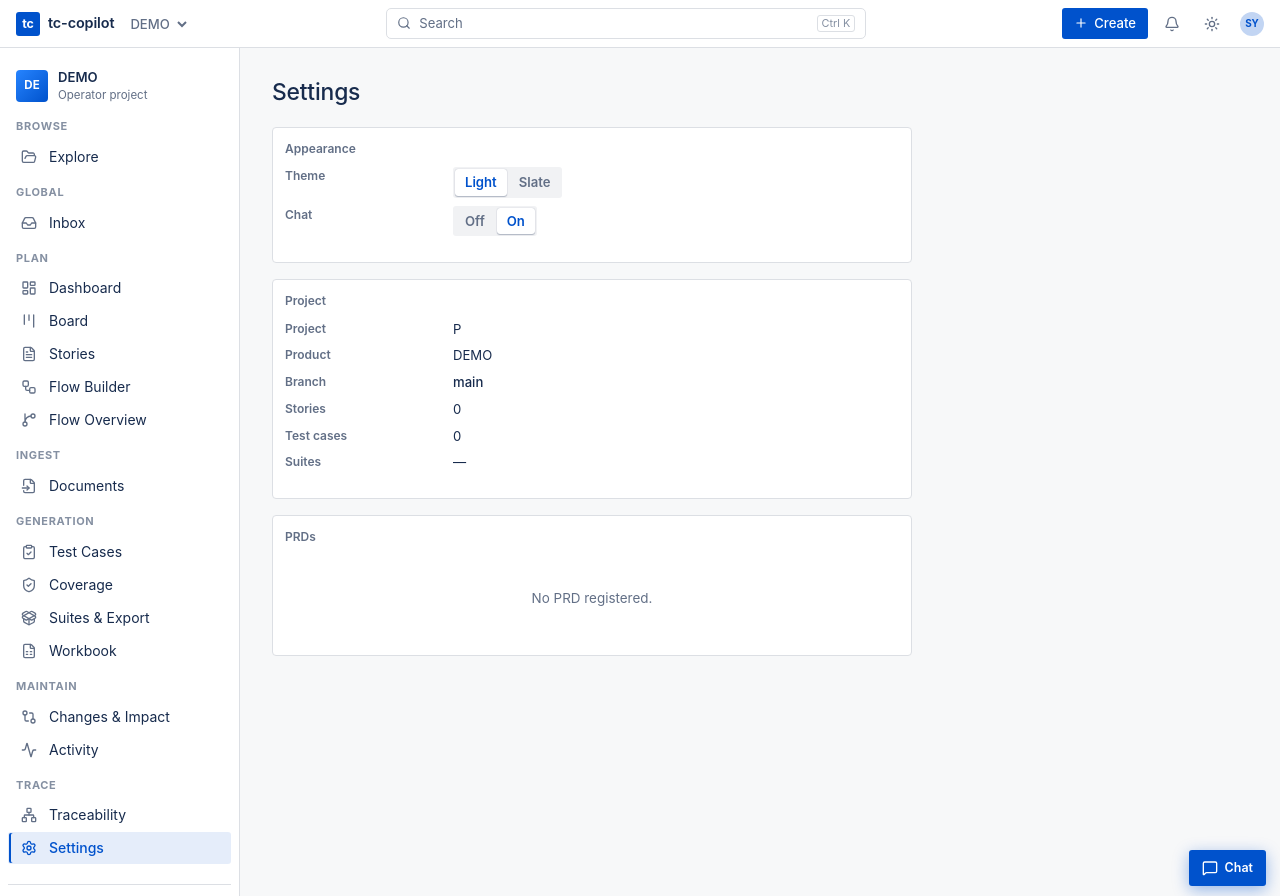
chat toggle › switching Off then On restores the collapsed state that was left
Expected: the button "On" is shown, 497,208 -> 535,234
Expected: the button titled "Show chat" is shown, 1189,850 -> 1266,886
Click the button "Off": (475, 221) 455,208 -> 495,234
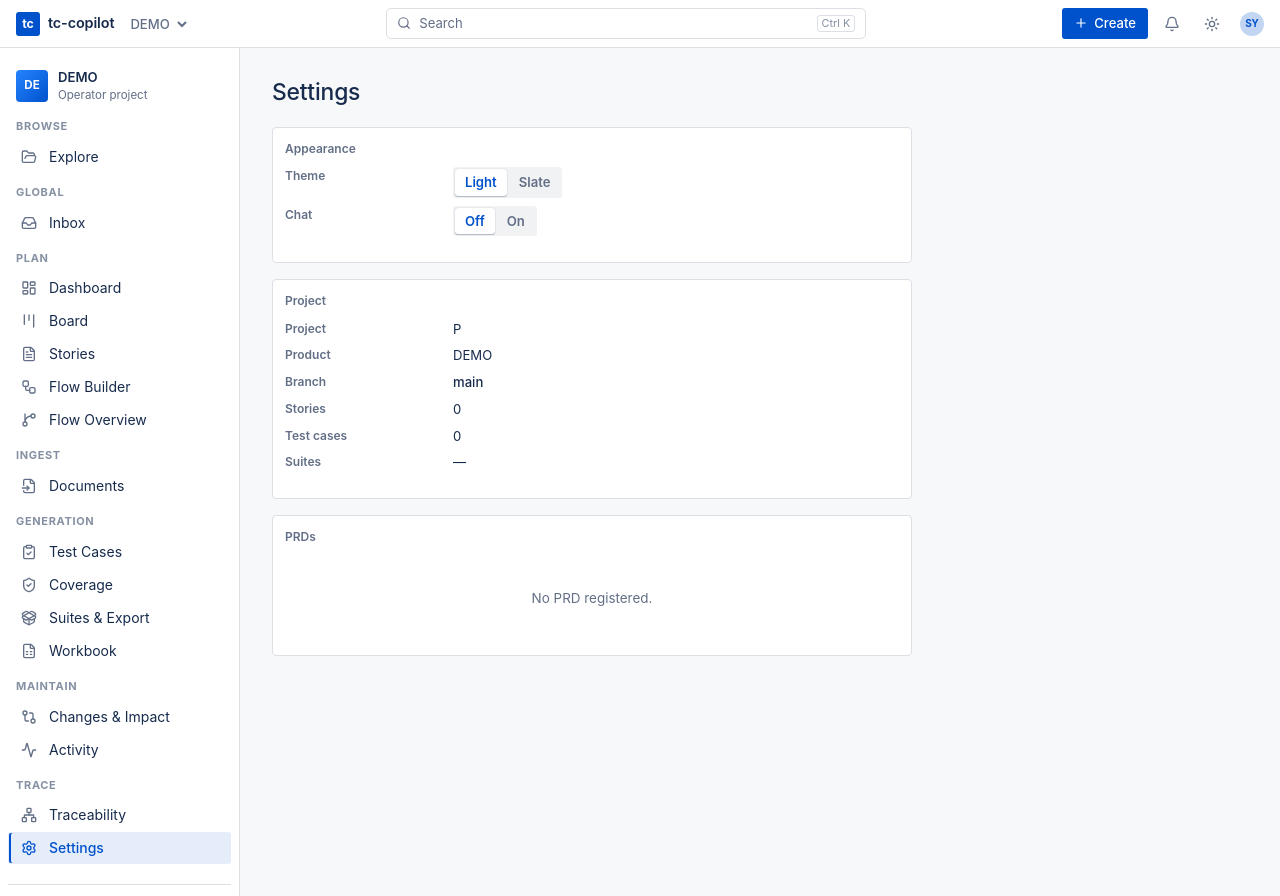
Click the button "On": (516, 221) 497,208 -> 535,234
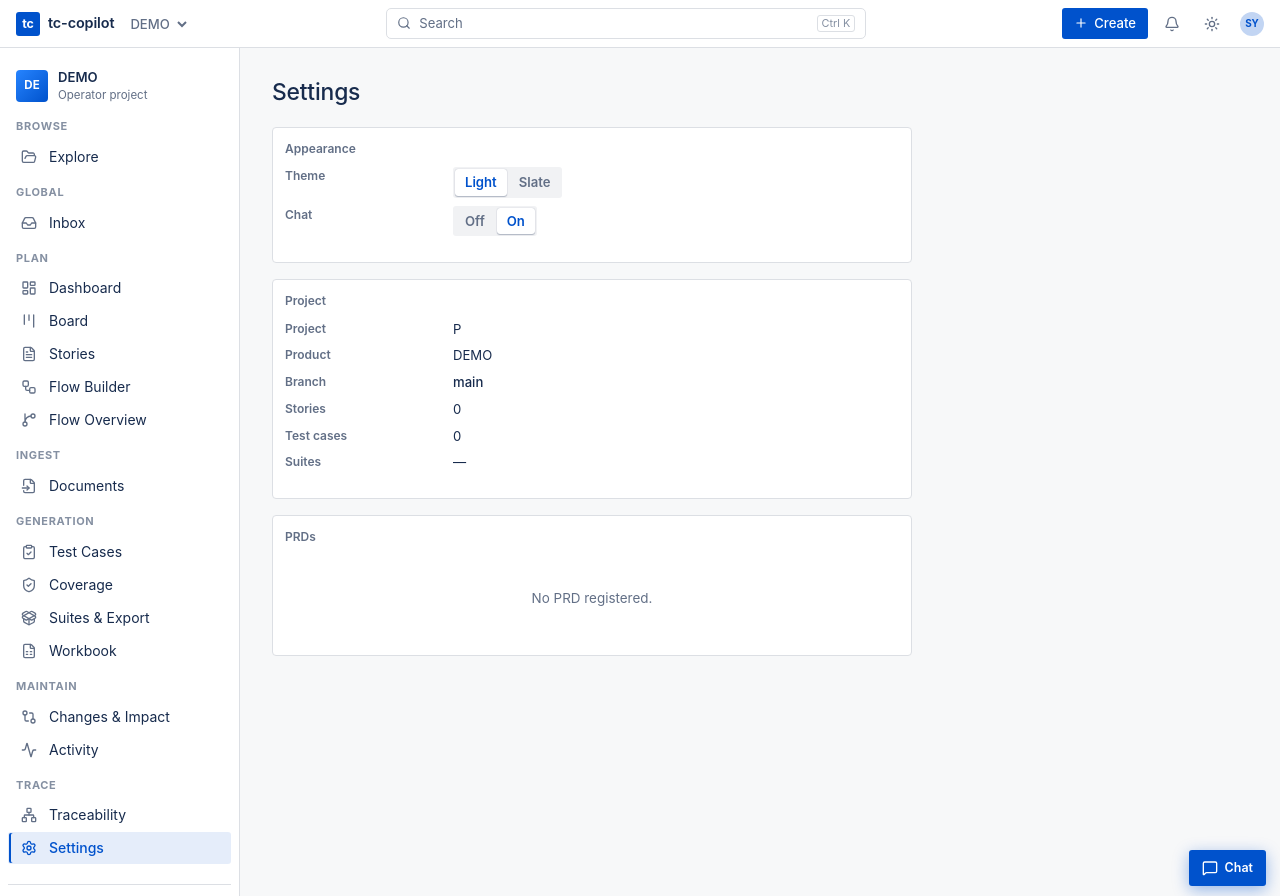
Expected: the button titled "Show chat" is shown, 1189,850 -> 1266,886
